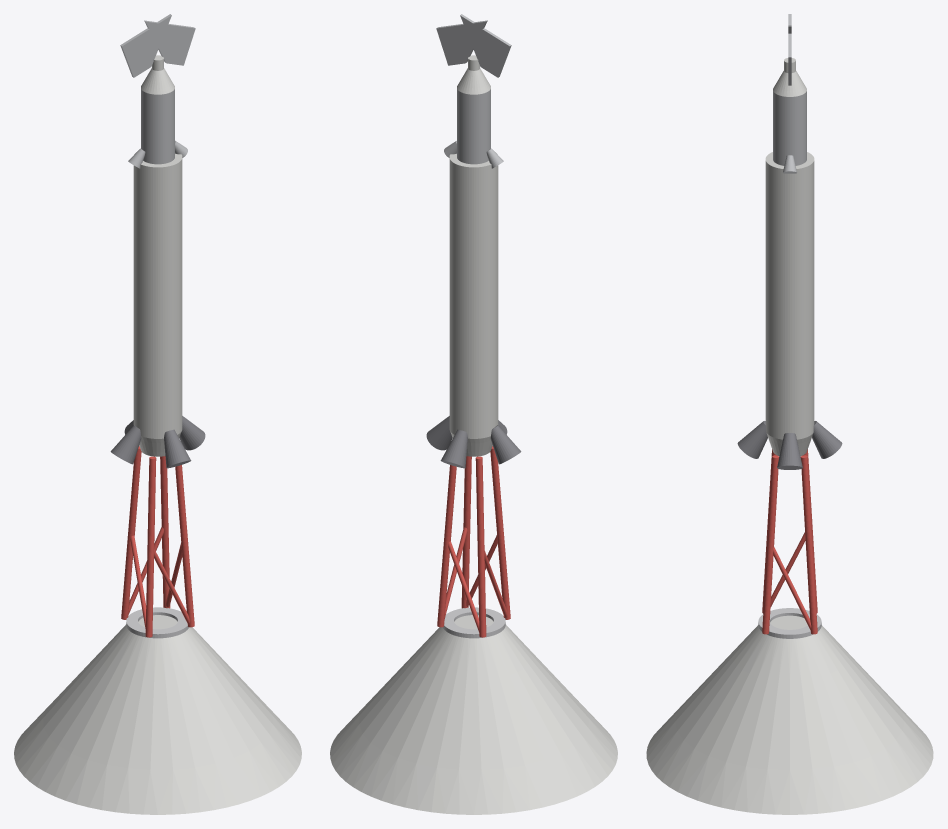
File: prop24_launch_escape_tower_l.glb
3 renders of one model, left to right at view 1: azimuth 30°, elevation 25°; view 2: azimuth 150°, elevation 25°; view 3: azimuth 270°, elevation 25°, orthographic.
Visible parts, largest first — view 1: boost_cover, abort_motor, tower_truss, jettison_motor, abort_nozzles, canard_1, canard_2, docking_ring, nose; view 2: boost_cover, abort_motor, tower_truss, jettison_motor, abort_nozzles, canard_1, canard_2, docking_ring, nose; view 3: boost_cover, abort_motor, tower_truss, jettison_motor, abort_nozzles, docking_ring, nose.
Boxes of the visible parts, x1=… form: boost_cover: x1=14, y1=615, x2=301, y2=814; abort_motor: x1=133, y1=152, x2=182, y2=456; tower_truss: x1=121, y1=446, x2=194, y2=637; jettison_motor: x1=128, y1=89, x2=187, y2=168; abort_nozzles: x1=110, y1=416, x2=205, y2=468; canard_1: x1=120, y1=14, x2=171, y2=77; canard_2: x1=144, y1=20, x2=195, y2=65; docking_ring: x1=126, y1=607, x2=188, y2=638; nose: x1=141, y1=55, x2=174, y2=94; boost_cover: x1=330, y1=615, x2=617, y2=814; abort_motor: x1=449, y1=152, x2=498, y2=456; tower_truss: x1=437, y1=446, x2=510, y2=637; jettison_motor: x1=444, y1=89, x2=503, y2=168; abort_nozzles: x1=426, y1=416, x2=521, y2=468; canard_1: x1=460, y1=14, x2=511, y2=77; canard_2: x1=436, y1=20, x2=487, y2=65; docking_ring: x1=443, y1=607, x2=505, y2=638; nose: x1=457, y1=55, x2=490, y2=94; boost_cover: x1=646, y1=615, x2=933, y2=814; abort_motor: x1=765, y1=152, x2=814, y2=456; tower_truss: x1=762, y1=449, x2=817, y2=634; jettison_motor: x1=773, y1=91, x2=806, y2=173; abort_nozzles: x1=737, y1=421, x2=842, y2=469; docking_ring: x1=758, y1=608, x2=821, y2=638; nose: x1=773, y1=58, x2=806, y2=96.
Size of the model in its own units: 3.75 by 10.57 by 3.75.
